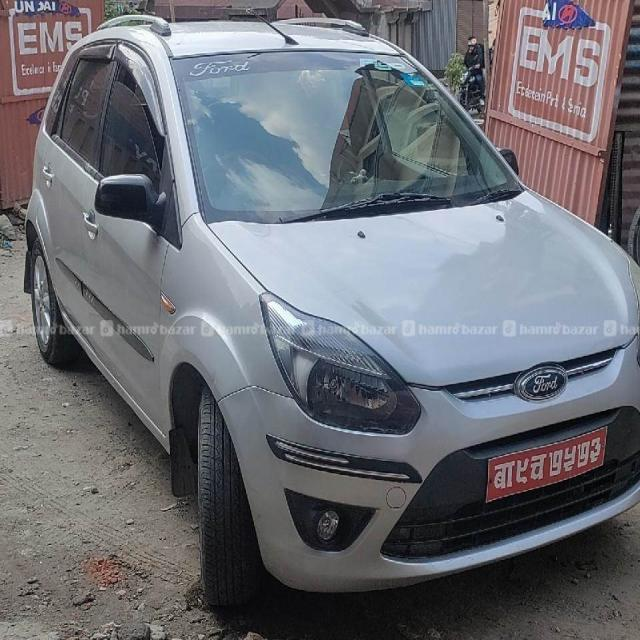License-plate: (477, 427, 628, 508)
